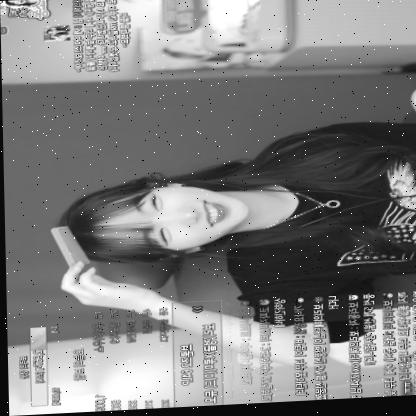donation: (38, 0, 134, 76)
streamer: (46, 122, 416, 381)
